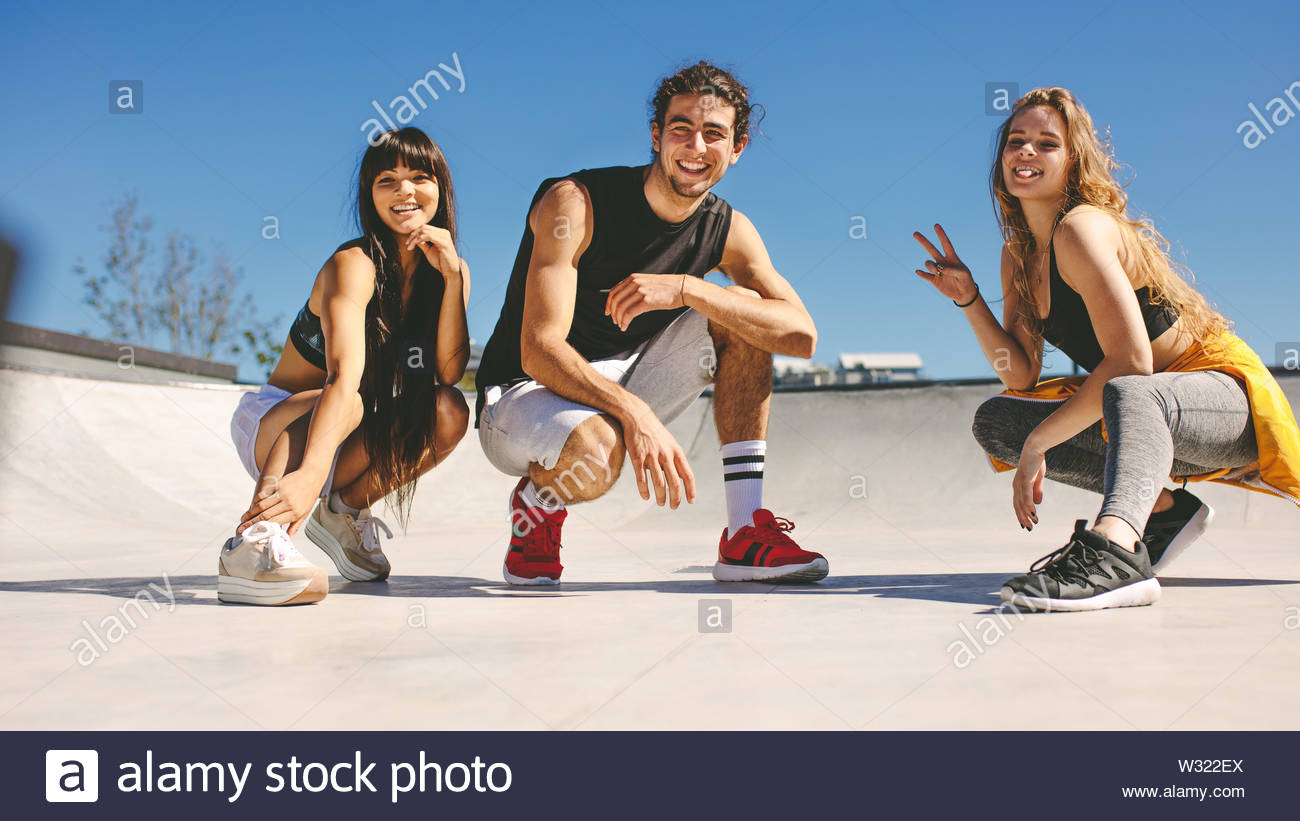person: (540, 43, 793, 328), (938, 74, 1190, 350), (320, 119, 477, 428)
